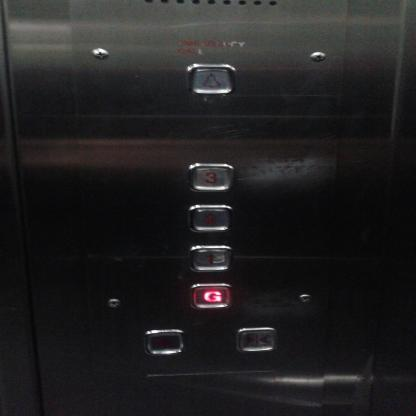1: (184, 244, 234, 274)
2: (184, 203, 235, 235)
3: (186, 161, 236, 194)
G: (187, 281, 234, 311)
alarm: (182, 61, 241, 99)
blur: (139, 327, 186, 357)
close: (232, 325, 279, 355)
